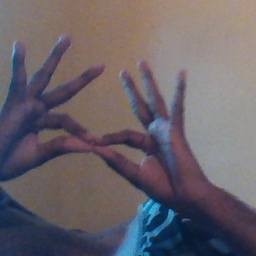B: (14, 74, 169, 188)
